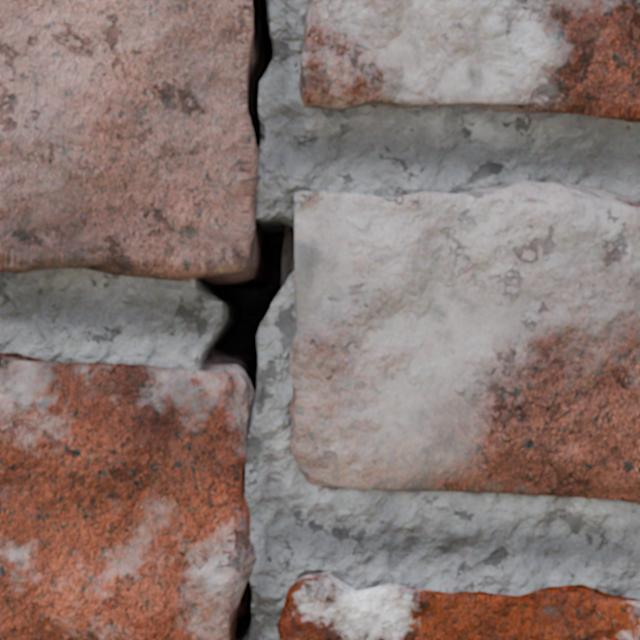crack: (0, 0, 639, 639), (300, 0, 639, 121), (278, 572, 639, 639)
